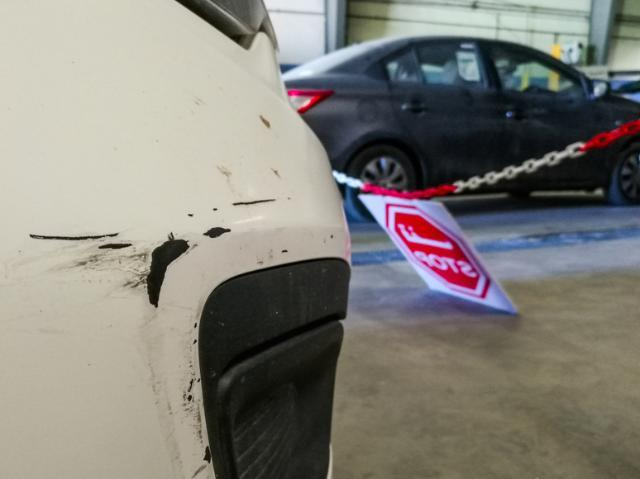Bumper: (21, 101, 317, 479)
